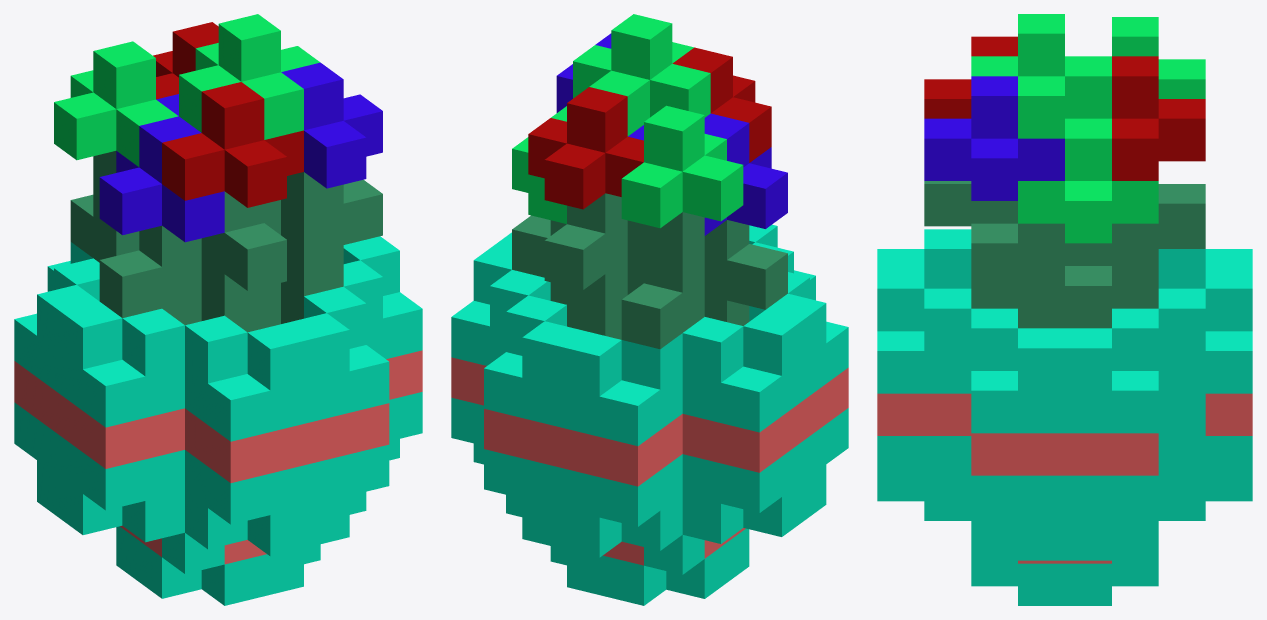
The model's file is prop_pot_flower.glb.
The picture shows the model from 3 angles, left to right: view 1: azimuth 30°, elevation 25°; view 2: azimuth 150°, elevation 25°; view 3: azimuth 270°, elevation 25°; orthographic projection. The views are drawn at different scales.
Visible parts, largest first — view 1: prop_pot_flower; view 2: prop_pot_flower; view 3: prop_pot_flower.
Boxes of the visible parts, bbox=[...] form: prop_pot_flower: bbox=[14, 14, 422, 605]; prop_pot_flower: bbox=[451, 14, 848, 605]; prop_pot_flower: bbox=[877, 14, 1252, 605].
Bounding box in the file's own units: 0.8 × 1.3 × 0.8.
Materials: 1 (1 with a texture image).
